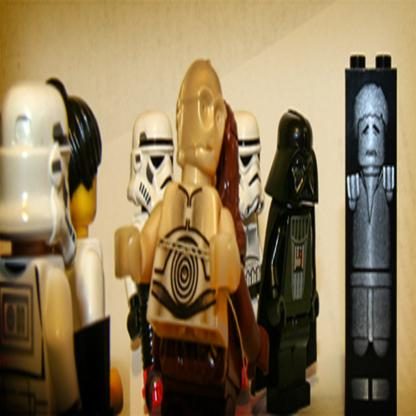Helmet: (0, 78, 78, 272), (264, 101, 320, 206), (126, 105, 175, 214), (231, 107, 263, 227), (355, 80, 388, 130)
